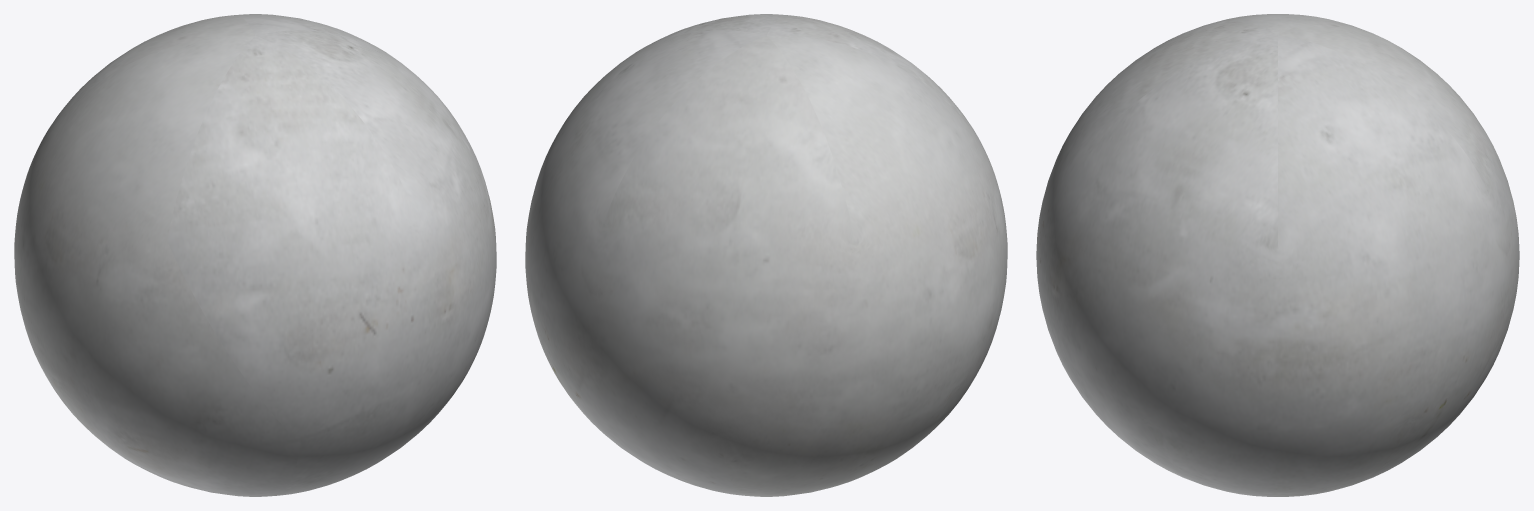
Rendered from snowball.glb.
3 views of the same model, side by side, from view 1: azimuth 30°, elevation 25°; view 2: azimuth 150°, elevation 25°; view 3: azimuth 270°, elevation 25° (orthographic).
Parts seen in each view (by area): view 1: Icosphere_2; view 2: Icosphere_2; view 3: Icosphere_2.
Boxes of the visible parts, bbox=[...] form: Icosphere_2: bbox=[14, 14, 496, 496]; Icosphere_2: bbox=[525, 14, 1007, 496]; Icosphere_2: bbox=[1036, 14, 1519, 496].
Size of the model in its own units: 1.96 by 1.97 by 1.96.
1 material, 1 textured.
